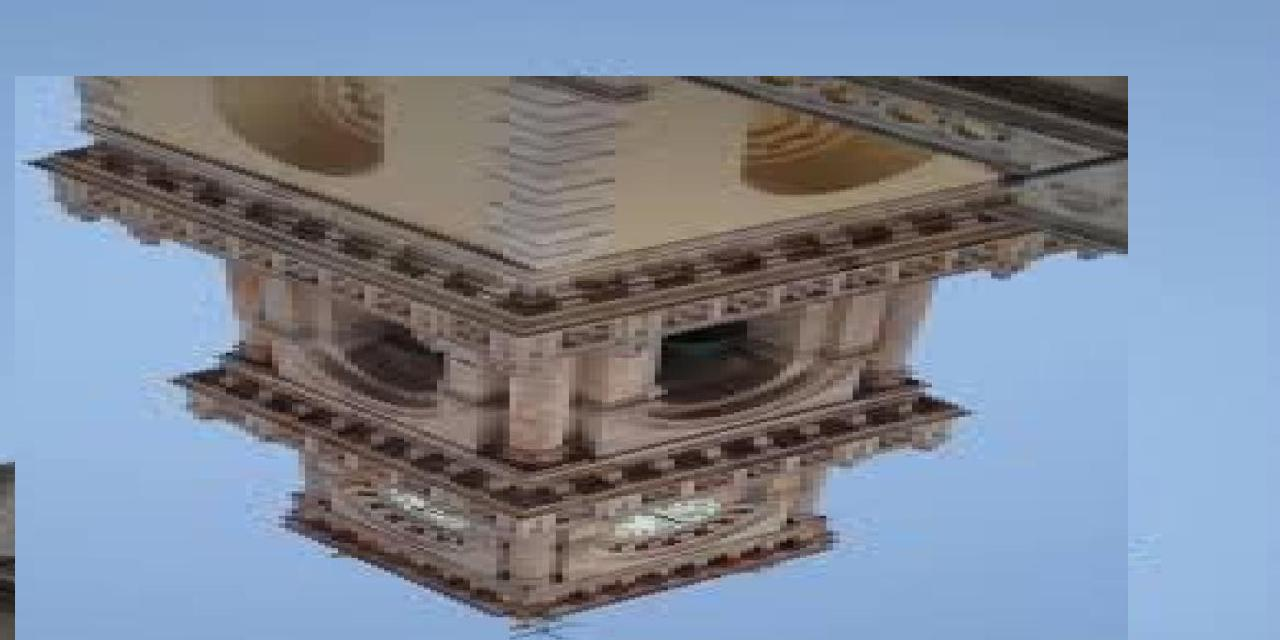Agios Minas: (16, 77, 1129, 640)
